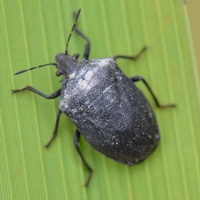insect: (12, 9, 175, 185)
